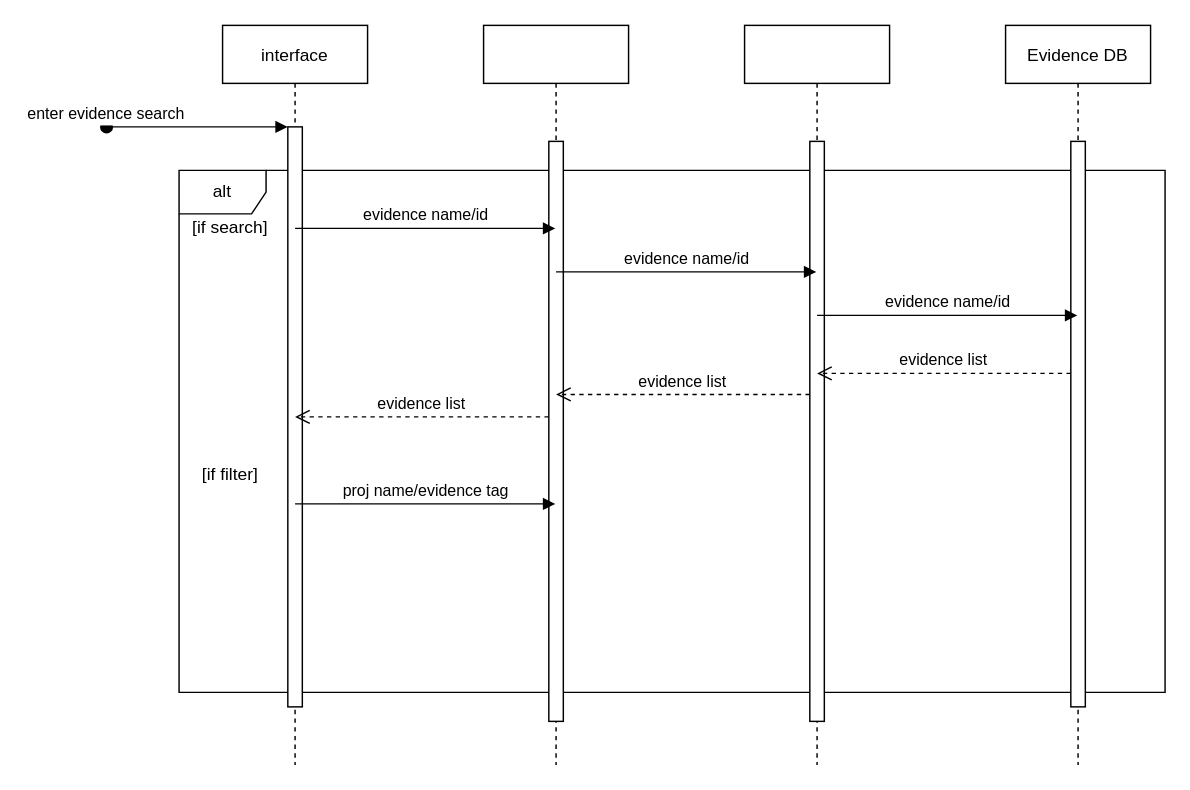
Image size: 1190x790. Some labels were removed from this diagram. Each missing label, with the box of its shape:
Evidence Management: (743, 24, 890, 765)
Server: (482, 24, 629, 765)
